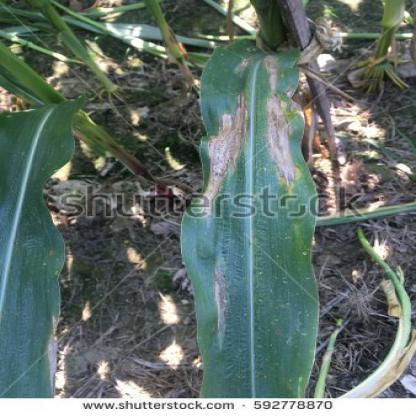corn leaf blight: (176, 43, 306, 390)
